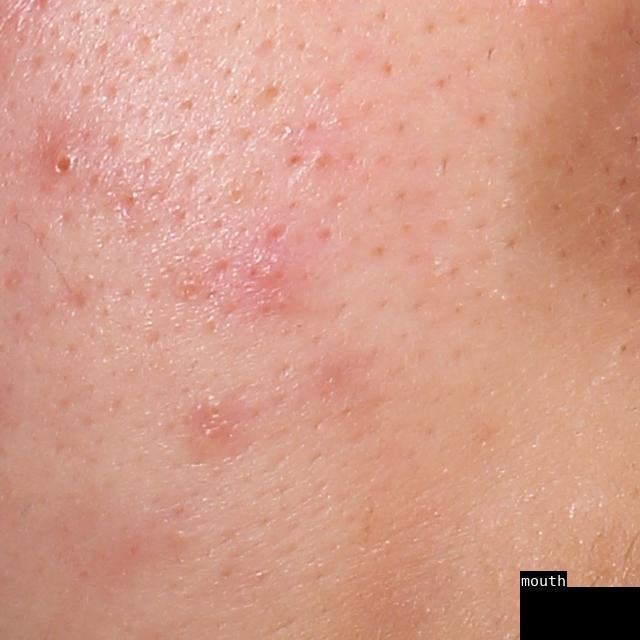atrophic_scar: (60, 280, 93, 316)
